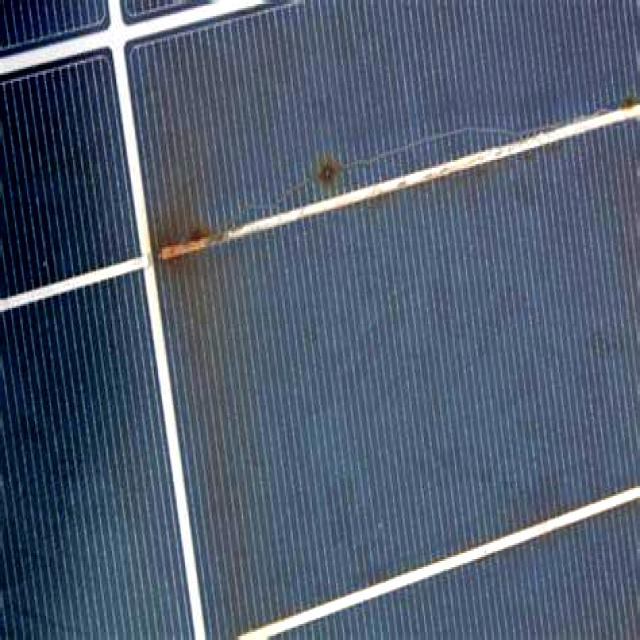shadow: (122, 145, 260, 298), (290, 126, 368, 220)
